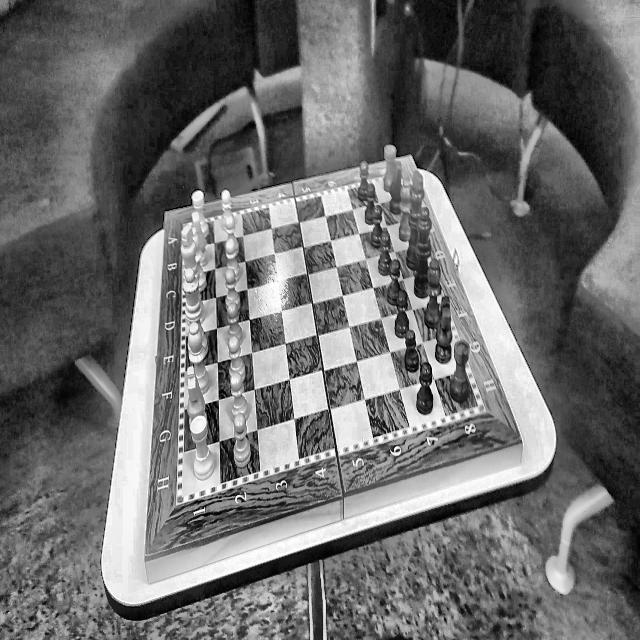chessboard: (182, 179, 477, 493)
